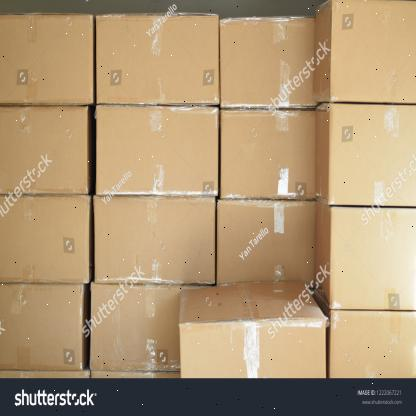box: (90, 284, 216, 370), (96, 107, 219, 195), (94, 197, 215, 286), (96, 18, 219, 102), (219, 107, 320, 199), (221, 16, 316, 110), (329, 0, 416, 102), (329, 104, 416, 206), (218, 198, 318, 285), (330, 208, 416, 308), (0, 193, 90, 285), (183, 320, 326, 376), (0, 16, 93, 102), (0, 108, 89, 193), (0, 283, 84, 370)
